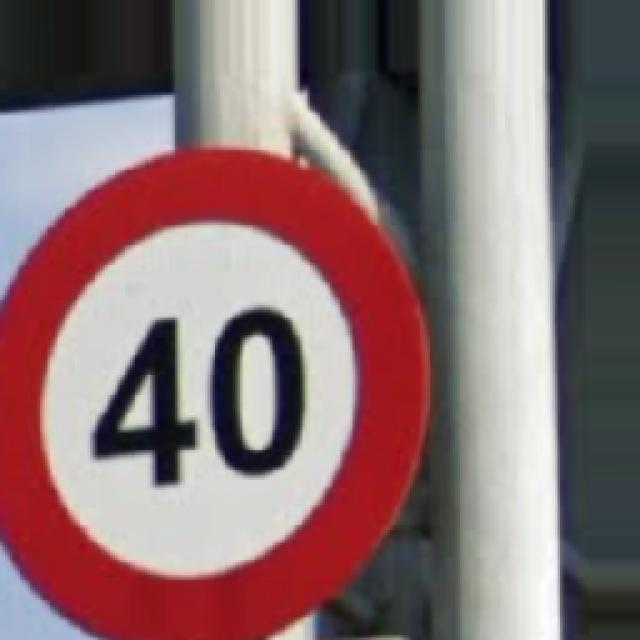Speed Limit -40-: (0, 150, 428, 638)
